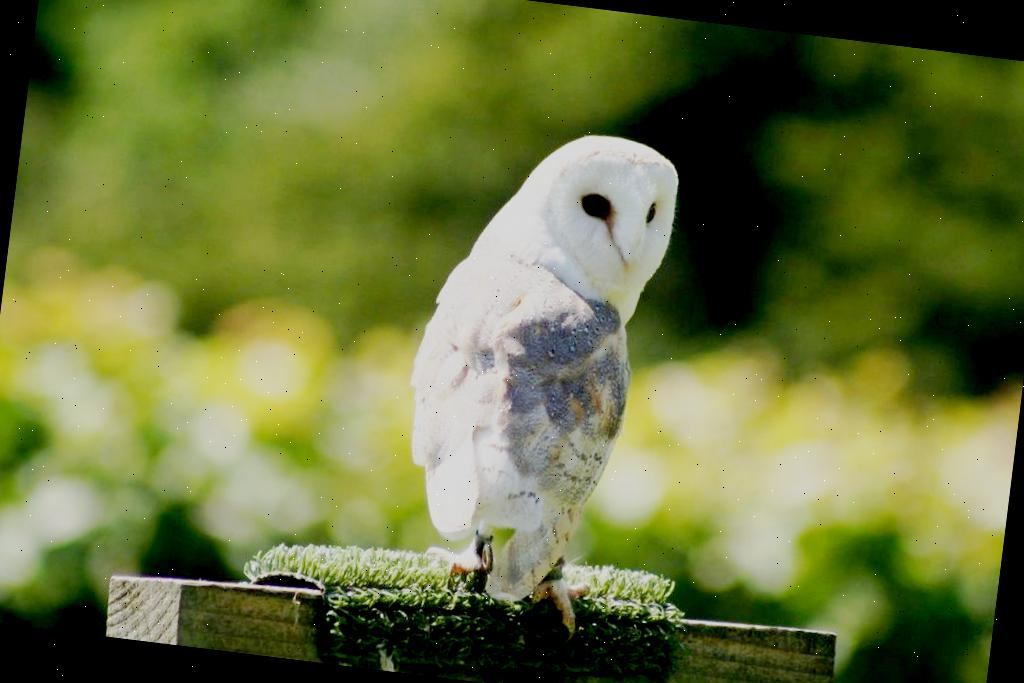Owl: (380, 119, 686, 645)
